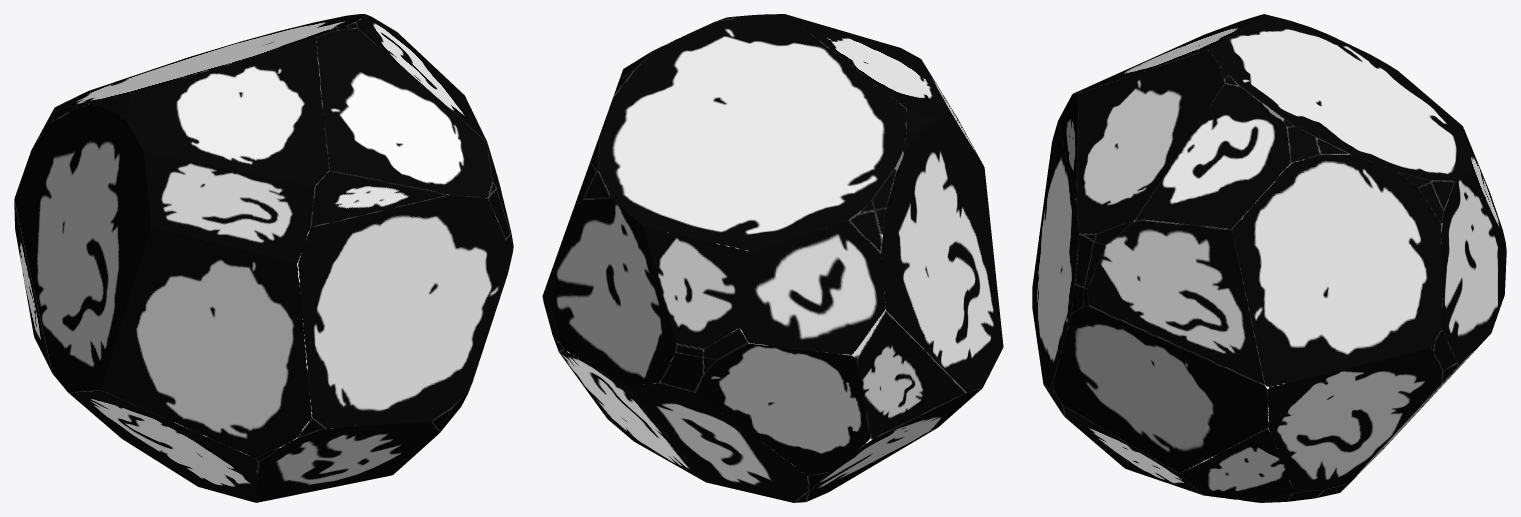
File: Rock_Textured_Embeded.fbx
3 views of the same model, side by side, from view 1: azimuth 30°, elevation 25°; view 2: azimuth 150°, elevation 25°; view 3: azimuth 270°, elevation 25° (orthographic). The views are drawn at different scales.
Parts seen in each view (by area): view 1: Sphere.001; view 2: Sphere.001; view 3: Sphere.001.
Part boxes in pixels (bbox=[...]): Sphere.001: bbox=[14, 14, 513, 502]; Sphere.001: bbox=[542, 14, 1003, 502]; Sphere.001: bbox=[1032, 14, 1506, 502].
Bounding box in the file's own units: 206 × 195 × 206.
1 material, 1 textured.
